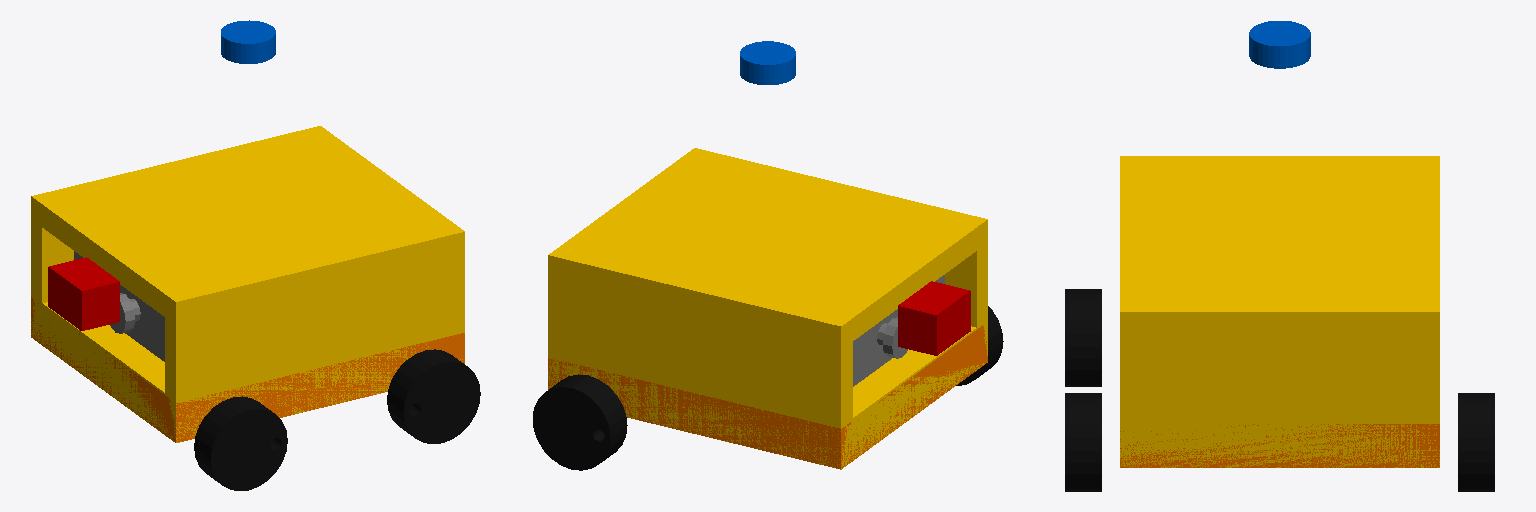
The robot description file, URDF, robot "final_robot_ros":
<?xml version="1.0" encoding="utf-8"?>
<robot name="final_robot_ros">
  
  <link name="base_footprint"/>
  
  <joint name="base_joint" type="fixed">
    <parent link="base_footprint"/>
    <child link="base_link"/>
    <!-- Rotate from ROS frame (Z-up) to STL frame (Y-up) -->
    <!-- X_ros = Z_stl, Y_ros = X_stl, Z_ros = Y_stl -->
    <!-- Keep base_footprint on the ground while lifting the chassis so
         the wheels, not the body mesh, carry the robot. -->
    <origin xyz="0 0 0.04" rpy="1.570796 0 -1.570796" />
  </joint>

  <!-- BASE LINK -->
  <link name="base_link">
    <inertial>
      <origin xyz="0 0.05 0" rpy="0 0 0" />
      <mass value="5.0" />
      <inertia ixx="0.1" ixy="0" ixz="0" iyy="0.1" iyz="0" izz="0.1" />
    </inertial>
    <visual>
      <origin xyz="0 0 0" rpy="0 0 0" />
      <geometry>
        <mesh filename="package://final_robot_ros/meshes/base_link.stl" scale="0.001 0.001 0.001" />
      </geometry>
      <material name="orange">
        <color rgba="1.0 0.5 0.0 1" />
      </material>
    </visual>
    <collision>
      <!-- Simple collision box so the LiDAR does not self-hit the STL mesh. -->
      <origin xyz="0 0.05 0" rpy="0 0 0" />
      <geometry>
        <box size="0.28 0.12 0.22" />
      </geometry>
    </collision>
  </link>

  <!-- BODY LINK -->
  <link name="body_link">
    <inertial>
      <origin xyz="0 0 0" rpy="0 0 0" />
      <mass value="1.0" />
      <inertia ixx="0.01" ixy="0" ixz="0" iyy="0.01" iyz="0" izz="0.01" />
    </inertial>
    <visual>
      <origin xyz="0 0 0" rpy="0 0 0" />
      <geometry>
        <mesh filename="package://final_robot_ros/meshes/body_link.stl" scale="0.001 0.001 0.001" />
      </geometry>
      <material name="yellow">
        <color rgba="1.0 0.8 0.0 1" />
      </material>
    </visual>
    <collision>
      <!-- Simple collision box so scan rays can escape the robot body. -->
      <origin xyz="0 0.07 0" rpy="0 0 0" />
      <geometry>
        <box size="0.22 0.14 0.18" />
      </geometry>
    </collision>
  </link>
  <joint name="body_joint" type="fixed">
    <parent link="base_link" />
    <child link="body_link" />
    <origin xyz="0 0 0" rpy="0 0 0" />
  </joint>

  <!-- BOX LINK -->
  <link name="box_link">
    <inertial>
      <origin xyz="0 0 0" rpy="0 0 0" />
      <mass value="1.0" />
      <inertia ixx="0.01" ixy="0" ixz="0" iyy="0.01" iyz="0" izz="0.01" />
    </inertial>
    <visual>
      <origin xyz="0 0 0" rpy="0 0 0" />
      <geometry>
        <mesh filename="package://final_robot_ros/meshes/box_link.stl" scale="0.001 0.001 0.001" />
      </geometry>
      <material name="grey">
        <color rgba="0.5 0.5 0.5 1" />
      </material>
    </visual>
    <collision>
      <origin xyz="0 0 0" rpy="0 0 0" />
      <geometry>
        <box size="0.12 0.08 0.08" />
      </geometry>
    </collision>
  </link>
  <joint name="box_joint" type="fixed">
    <parent link="base_link" />
    <child link="box_link" />
    <origin xyz="0 0.1075 -0.1375" rpy="0 0 0" />
  </joint>

  <!-- FRONT LEFT WHEEL -->
  <link name="link_fl">
    <inertial>
      <origin xyz="0 0 0" rpy="0 0 0" />
      <mass value="0.5" />
      <inertia ixx="0.001" ixy="0" ixz="0" iyy="0.001" iyz="0" izz="0.001" />
    </inertial>
    <visual>
      <origin xyz="0 0 0" rpy="0 0 0" />
      <geometry>
        <mesh filename="package://final_robot_ros/meshes/left_front_wheel.stl" scale="0.001 0.001 0.001" />
      </geometry>
      <material name="black">
        <color rgba="0.1 0.1 0.1 1" />
      </material>
    </visual>
    <collision>
      <!-- URDF cylinders are Z-axis aligned by default. Rotate the
           cylinder so its length is along the wheel joint axis (X). -->
      <origin xyz="0 0 0" rpy="0 1.570796 0" />
      <geometry>
        <!-- Use a cylinder for stable collisions -->
        <cylinder radius="0.04" length="0.03" />
      </geometry>
    </collision>
  </link>
  <joint name="joint_fl" type="continuous">
    <origin xyz="-0.145 0 0.1" rpy="0 0 3.14159" />
    <parent link="base_link" />
    <child link="link_fl" />
    <axis xyz="1 0 0" />
  </joint>

  <!-- REAR LEFT WHEEL -->
  <link name="link_bl">
    <inertial>
      <origin xyz="0 0 0" rpy="0 0 0" />
      <mass value="0.5" />
      <inertia ixx="0.001" ixy="0" ixz="0" iyy="0.001" iyz="0" izz="0.001" />
    </inertial>
    <visual>
      <origin xyz="0 0 0" rpy="0 0 0" />
      <geometry>
        <mesh filename="package://final_robot_ros/meshes/left_rear_wheel.stl" scale="0.001 0.001 0.001" />
      </geometry>
      <material name="black">
        <color rgba="0.1 0.1 0.1 1" />
      </material>
    </visual>
    <collision>
      <origin xyz="0 0 0" rpy="0 1.570796 0" />
      <geometry>
        <cylinder radius="0.04" length="0.03" />
      </geometry>
    </collision>
  </link>
  <joint name="joint_bl" type="continuous">
    <origin xyz="-0.145 0 -0.1" rpy="0 0 3.14159" />
    <parent link="base_link" />
    <child link="link_bl" />
    <axis xyz="1 0 0" />
  </joint>

  <!-- FRONT RIGHT WHEEL -->
  <link name="link_fr">
    <inertial>
      <origin xyz="0 0 0" rpy="0 0 0" />
      <mass value="0.5" />
      <inertia ixx="0.001" ixy="0" ixz="0" iyy="0.001" iyz="0" izz="0.001" />
    </inertial>
    <visual>
      <origin xyz="0 0 0" rpy="0 0 0" />
      <geometry>
        <mesh filename="package://final_robot_ros/meshes/right_front_wheel.stl" scale="0.001 0.001 0.001" />
      </geometry>
      <material name="black">
        <color rgba="0.1 0.1 0.1 1" />
      </material>
    </visual>
    <collision>
      <origin xyz="0 0 0" rpy="0 1.570796 0" />
      <geometry>
        <cylinder radius="0.04" length="0.03" />
      </geometry>
    </collision>
  </link>
  <joint name="joint_fr" type="continuous">
    <origin xyz="0.145 0 0.1" rpy="0 0 0" />
    <parent link="base_link" />
    <child link="link_fr" />
    <axis xyz="1 0 0" />
  </joint>

  <!-- REAR RIGHT WHEEL -->
  <link name="link_br">
    <inertial>
      <origin xyz="0 0 0" rpy="0 0 0" />
      <mass value="0.5" />
      <inertia ixx="0.001" ixy="0" ixz="0" iyy="0.001" iyz="0" izz="0.001" />
    </inertial>
    <visual>
      <origin xyz="0 0 0" rpy="0 0 0" />
      <geometry>
        <mesh filename="package://final_robot_ros/meshes/right_rear_wheel.stl" scale="0.001 0.001 0.001" />
      </geometry>
      <material name="black">
        <color rgba="0.1 0.1 0.1 1" />
      </material>
    </visual>
    <collision>
      <origin xyz="0 0 0" rpy="0 1.570796 0" />
      <geometry>
        <cylinder radius="0.04" length="0.03" />
      </geometry>
    </collision>
  </link>
  <joint name="joint_br" type="continuous">
    <origin xyz="0.145 0 -0.1" rpy="0 0 0" />
    <parent link="base_link" />
    <child link="link_br" />
    <axis xyz="1 0 0" />
  </joint>

  <!-- Gazebo specific colors -->
  <gazebo reference="base_link">
    <visual>
      <material>
        <ambient>1.0 0.5 0.0 1.0</ambient>
        <diffuse>1.0 0.5 0.0 1.0</diffuse>
      </material>
    </visual>
  </gazebo>
  <gazebo reference="body_link">
    <visual>
      <material>
        <ambient>1.0 0.8 0.0 1.0</ambient>
        <diffuse>1.0 0.8 0.0 1.0</diffuse>
      </material>
    </visual>
  </gazebo>
  <gazebo reference="box_link">
    <visual>
      <material>
        <ambient>0.5 0.5 0.5 1.0</ambient>
        <diffuse>0.5 0.5 0.5 1.0</diffuse>
      </material>
    </visual>
  </gazebo>
  <gazebo reference="link_fl">
    <visual>
      <material>
        <ambient>0.1 0.1 0.1 1.0</ambient>
        <diffuse>0.1 0.1 0.1 1.0</diffuse>
      </material>
    </visual>
  </gazebo>
  <gazebo reference="link_bl">
    <visual>
      <material>
        <ambient>0.1 0.1 0.1 1.0</ambient>
        <diffuse>0.1 0.1 0.1 1.0</diffuse>
      </material>
    </visual>
  </gazebo>
  <gazebo reference="link_fr">
    <visual>
      <material>
        <ambient>0.1 0.1 0.1 1.0</ambient>
        <diffuse>0.1 0.1 0.1 1.0</diffuse>
      </material>
    </visual>
  </gazebo>
  <gazebo reference="link_br">
    <visual>
      <material>
        <ambient>0.1 0.1 0.1 1.0</ambient>
        <diffuse>0.1 0.1 0.1 1.0</diffuse>
      </material>
    </visual>
  </gazebo>

  <gazebo>
    <plugin
      filename="ignition-gazebo-diff-drive-system"
      name="ignition::gazebo::systems::DiffDrive">
      <!-- <left_joint>joint_fl</left_joint> -->
      <left_joint>joint_bl</left_joint>
      <!-- <right_joint>joint_fr</right_joint> -->
      <right_joint>joint_br</right_joint>
      <wheel_separation>0.29</wheel_separation>
      <wheel_radius>0.04</wheel_radius>
      <topic>cmd_vel</topic>
      <odom_topic>odom</odom_topic>
      <tf_topic>tf</tf_topic>
      <frame_id>odom</frame_id>
      <child_frame_id>base_footprint</child_frame_id>
    </plugin>
  </gazebo>

  <!-- ============================================================ -->
  <!-- 2D LiDAR SENSOR                                              -->
  <!-- Mounted directly in the ROS base_footprint frame so the scan  -->
  <!-- plane stays horizontal and outside the STL-oriented body mesh. -->
  <!-- ============================================================ -->
  <link name="lidar_link">
    <inertial>
      <origin xyz="0 0 0" rpy="0 0 0" />
      <mass value="0.1" />
      <inertia ixx="0.0001" ixy="0" ixz="0" iyy="0.0001" iyz="0" izz="0.0001" />
    </inertial>
    <visual>
      <origin xyz="0 0 0" rpy="0 0 0" />
      <geometry>
        <!-- Small cylinder representing the LiDAR body -->
        <cylinder radius="0.025" length="0.02" />
      </geometry>
      <material name="lidar_blue">
        <color rgba="0.0 0.4 0.8 1.0" />
      </material>
    </visual>
    <!-- <collision>
      <origin xyz="0 0 0" rpy="0 0 0" />
      <geometry>
        <cylinder radius="0.04" length="0.04" />
      </geometry>
    </collision> -->
  </link>

  <!-- Mount LiDAR high enough that no robot collision body clips rays. -->
  <joint name="lidar_joint" type="fixed">
    <parent link="base_footprint" />
    <child link="lidar_link" />
    <origin xyz="0 0 0.35" rpy="0 0 0" />
  </joint>

  <!-- Gazebo Ignition: LiDAR visual colour -->
  <gazebo reference="lidar_link">
    <self_collide>false</self_collide>
    <visual>
      <material>
        <ambient>0.0 0.4 0.8 1.0</ambient>
        <diffuse>0.0 0.4 0.8 1.0</diffuse>
      </material>
    </visual>
  </gazebo>

  <!-- Gazebo Ignition: GPU LiDAR sensor -->
  <gazebo reference="lidar_link">
    <sensor name="lidar_sensor" type="gpu_ray">
      <!-- Pose relative to lidar_link (centred, pointing forward) -->
      <pose>0 0 0 0 0 0</pose>
      <update_rate>10</update_rate>
      <topic>final_scan</topic>
      <gz_frame_id>lidar_link</gz_frame_id>
      <ray>
        <scan>
          <horizontal>
            <samples>360</samples>
            <resolution>1</resolution>
            <!-- 360-degree sweep -->
            <min_angle>-3.14159265</min_angle>
            <max_angle>3.14159265</max_angle>
          </horizontal>
          <vertical>
            <samples>1</samples>
            <resolution>1</resolution>
            <min_angle>0</min_angle>
            <max_angle>0</max_angle>
          </vertical>
        </scan>
        <range>
          <min>0.3</min>
          <max>10.0</max>
          <resolution>0.01</resolution>
        </range>
        <noise>
          <type>gaussian</type>
          <mean>0.0</mean>
          <stddev>0.01</stddev>
        </noise>
      </ray>
      <always_on>true</always_on>
      <visualize>true</visualize>
    </sensor>
  </gazebo>

  <!-- ============================================================ -->
  <!-- RGB CAMERA SENSOR                                            -->
  <!-- Mounted front-facing on body_link                            -->
  <!-- In the exported body_link mesh, the visible front is +Z.       -->
  <!-- ============================================================ -->
  <link name="camera_link">
    <inertial>
      <origin xyz="0 0 0" rpy="0 0 0" />
      <mass value="0.05" />
      <inertia ixx="0.00005" ixy="0" ixz="0" iyy="0.00005" iyz="0" izz="0.00005" />
    </inertial>
    <visual>
      <origin xyz="0 0 0" rpy="0 0 0" />
      <geometry>
        <!-- Small box representing the camera body -->
        <box size="0.04 0.06 0.04" />
      </geometry>
      <material name="camera_red">
        <color rgba="0.8 0.0 0.0 1.0" />
      </material>
    </visual>
    <collision>
      <origin xyz="0 0 0" rpy="0 0 0" />
      <geometry>
        <box size="0.04 0.06 0.04" />
      </geometry>
    </collision>
  </link>

  <!-- camera_optical_link: Z-forward optical frame (ROS convention) -->
  <link name="camera_optical_link" />

  <!-- Mount camera on the visible front face.
       In body_link/export frame: +Y is up and the modeled front is +Z.
       The camera sits above the wheel/ground plane and looks outward. -->
  <joint name="camera_joint" type="fixed">
    <parent link="body_link" />
    <child link="camera_link" />
    <origin xyz="0 0.10 0.17" rpy="0 -1.570796 -1.570796" />
  </joint>

  <!-- Optical frame: rotate so that Z points forward (camera convention) -->
  <joint name="camera_optical_joint" type="fixed">
    <parent link="camera_link" />
    <child link="camera_optical_link" />
    <!-- RPY: roll=-90deg, pitch=0, yaw=-90deg -> Z_optical = X_camera -->
    <origin xyz="0 0 0" rpy="-1.5707963 0 -1.5707963" />
  </joint>

  <!-- Gazebo Ignition: camera visual colour -->
  <gazebo reference="camera_link">
    <visual>
      <material>
        <ambient>0.8 0.0 0.0 1.0</ambient>
        <diffuse>0.8 0.0 0.0 1.0</diffuse>
      </material>
    </visual>
  </gazebo>

  <!-- Gazebo Ignition: camera sensor plugin -->
  <gazebo reference="camera_link">
    <sensor name="rgb_camera" type="camera">
      <pose>0 0 0 0 0 0</pose>
      <update_rate>30</update_rate>
      <topic>camera</topic>
      <gz_frame_id>camera_optical_link</gz_frame_id>
      <camera>
        <camera_info_topic>camera_info</camera_info_topic>
        <optical_frame_id>camera_optical_link</optical_frame_id>
        <horizontal_fov>1.0471975511965976</horizontal_fov>  <!-- 60 degrees -->
        <image>
          <width>640</width>
          <height>480</height>
          <format>R8G8B8</format>
        </image>
        <clip>
          <near>0.05</near>
          <far>50.0</far>
        </clip>
        <noise>
          <type>gaussian</type>
          <mean>0.0</mean>
          <stddev>0.005</stddev>
        </noise>
      </camera>
      <always_on>true</always_on>
      <visualize>true</visualize>
    </sensor>
  </gazebo>

  <!-- ============================================================ -->
  <!-- ADDED FIXES FOR GAZEBO TF & PHYSICS                          -->
  <!-- ============================================================ -->

  <!-- Publish ALL joint states from Gazebo to ROS -->
  <gazebo>
    <plugin
      filename="ignition-gazebo-joint-state-publisher-system"
      name="ignition::gazebo::systems::JointStatePublisher">
      <topic>joint_states</topic>
    </plugin>
  </gazebo>

  <!-- Added Friction to ALL wheels so it doesn't slide -->
  <gazebo reference="link_fl">
    <collision>
      <surface>
        <friction>
          <ode>
            <mu>1.0</mu>
            <mu2>1.0</mu2>
          </ode>
        </friction>
      </surface>
    </collision>
  </gazebo>

  <gazebo reference="link_bl">
    <collision>
      <surface>
        <friction>
          <ode>
            <mu>1.0</mu>
            <mu2>1.0</mu2>
          </ode>
        </friction>
      </surface>
    </collision>
  </gazebo>

  <gazebo reference="link_fr">
    <collision>
      <surface>
        <friction>
          <ode>
            <mu>1.0</mu>
            <mu2>1.0</mu2>
          </ode>
        </friction>
      </surface>
    </collision>
  </gazebo>

  <gazebo reference="link_br">
    <collision>
      <surface>
        <friction>
          <ode>
            <mu>1.0</mu>
            <mu2>1.0</mu2>
          </ode>
        </friction>
      </surface>
    </collision>
  </gazebo>

</robot>

--- What the picture shows (computed from the rendered views, not written in the file) ---
The picture shows the robot from 3 angles, left to right: view 1: azimuth 30°, elevation 25°; view 2: azimuth 150°, elevation 25°; view 3: azimuth 270°, elevation 25°; orthographic projection.
Model final_robot_ros with 11 links and 10 joints (4 continuous, 6 fixed), rooted at base_footprint, posed all joints at 0.
Visible links, largest first — view 1: body_link, base_link, link_br, link_fr, camera_link, box_link, lidar_link; view 2: body_link, base_link, link_bl, camera_link, box_link, lidar_link, link_fr; view 3: body_link, base_link, link_bl, link_br, link_fr, lidar_link.
Link boxes in pixels (x1,y1,x2,y2): body_link: (31,126,464,442); base_link: (31,297,464,442); link_br: (387,349,480,443); link_fr: (194,396,287,490); camera_link: (48,257,119,330); box_link: (74,251,164,361); lidar_link: (221,20,275,63); body_link: (548,148,987,469); base_link: (548,325,987,468); link_bl: (533,374,627,470); camera_link: (898,281,970,355); box_link: (853,275,944,386); lidar_link: (740,41,795,84); link_fr: (956,306,1003,385); body_link: (1120,156,1439,467); base_link: (1120,424,1439,467); link_bl: (1458,393,1494,491); link_br: (1065,393,1101,491); link_fr: (1065,289,1101,386); lidar_link: (1249,21,1310,68).
Bounding box of the posed robot: 0.34 × 0.35 × 0.36 m (x, y, z).
6 mesh visuals loaded from 7 distinct referenced files (6 binary STL); not drawn: 1 (reference not matched to a file when rendering).
